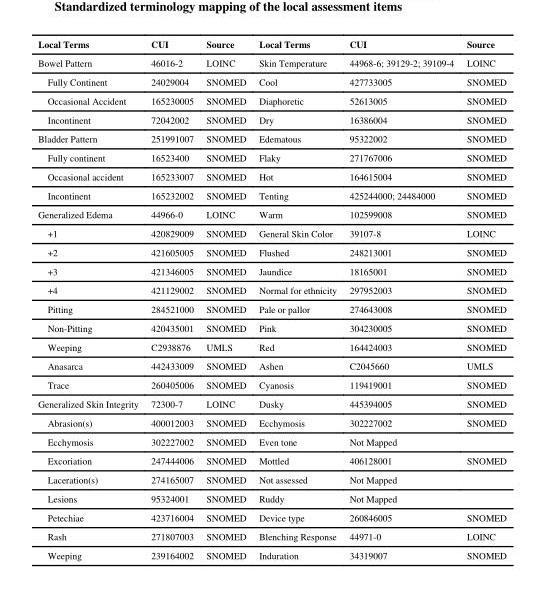table: (38, 37, 506, 560)
table column: (343, 37, 460, 560), (38, 37, 145, 560), (252, 37, 343, 560), (145, 37, 200, 560), (200, 37, 252, 560), (460, 37, 506, 560)
table column header: (38, 37, 506, 53)
table row: (38, 71, 506, 90), (38, 90, 506, 109), (38, 109, 506, 128), (38, 128, 506, 147), (38, 147, 506, 166), (38, 166, 506, 185), (38, 185, 506, 204), (38, 204, 506, 223), (38, 223, 506, 242), (38, 242, 506, 261), (38, 279, 506, 298), (38, 298, 506, 317), (38, 317, 506, 336), (38, 336, 506, 355), (38, 355, 506, 374), (38, 374, 506, 393), (38, 393, 506, 412), (38, 412, 506, 431), (38, 431, 506, 450), (38, 450, 506, 469), (38, 469, 506, 488), (38, 488, 506, 507), (38, 507, 506, 526), (38, 526, 506, 545), (38, 53, 506, 71), (38, 261, 506, 279), (38, 37, 506, 53), (38, 545, 506, 560)
